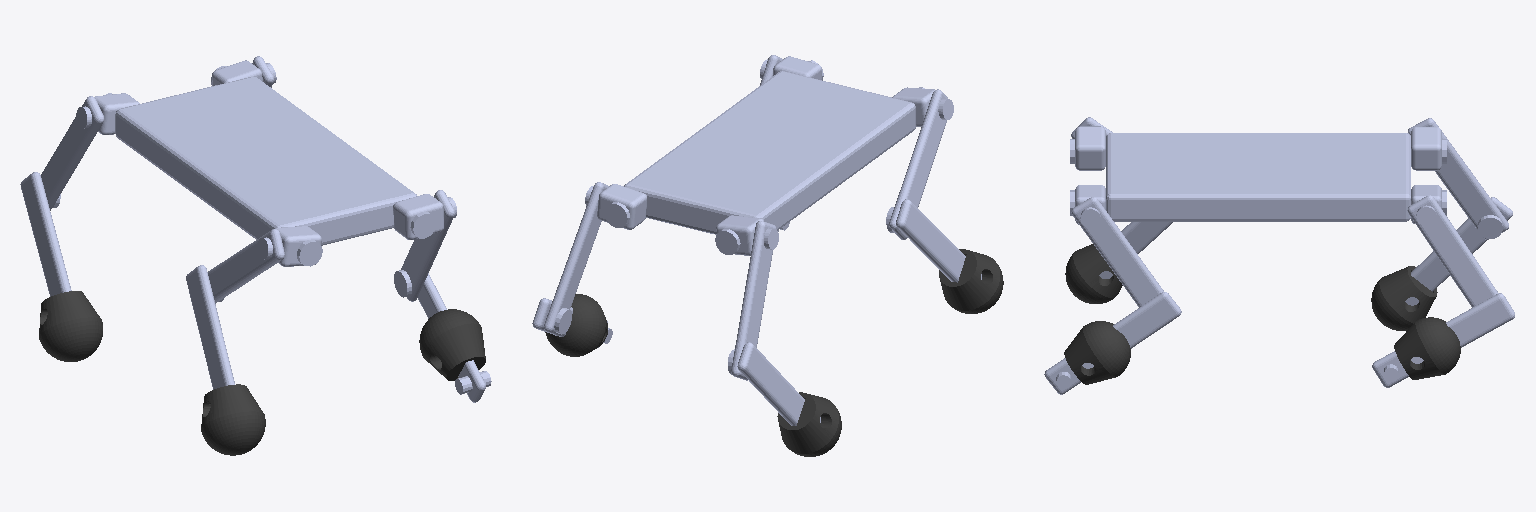
The robot description file, URDF, robot "StickASM":
<?xml version="1.0" encoding="utf-8"?>
<!-- This URDF was automatically created by SolidWorks to URDF Exporter! Originally created by [author] ([email redacted]) 
     Commit Version: 1.6.0-4-g7f85cfe  Build Version: 1.6.7995.38578
     For more information, please see http://wiki.ros.org/sw_urdf_exporter -->
<robot
  name="StickASM">
  <link
    name="Body">
    <inertial>
      <origin
        xyz="-0.00500000000000015 -0.0150000000000002 -0.00499999999999896"
        rpy="0 0 0" />
      <mass
        value="1.37088974358268" />
      <inertia
        ixx="0.0110007758484815"
        ixy="1.96455395481344E-21"
        ixz="-4.96308367531819E-20"
        iyy="0.0135005634933447"
        iyz="-6.41064974728595E-21"
        izz="0.00269988156811165" />
    </inertial>
    <visual>
      <origin
        xyz="0 0 0"
        rpy="0 0 0" />
      <geometry>
        <mesh
          filename="package://StickASM/meshes/Body.STL" />
      </geometry>
      <material
        name="">
        <color
          rgba="0.792156862745098 0.819607843137255 0.933333333333333 1" />
      </material>
    </visual>
    <collision>
      <origin
        xyz="0 0 0"
        rpy="0 0 0" />
      <geometry>
        <mesh
          filename="package://StickASM/meshes/Body.STL" />
      </geometry>
    </collision>
  </link>
  <link
    name="FLShoulder">
    <inertial>
      <origin
        xyz="6.93889390390723E-18 -0.00879740255477079 -0.0150000000000001"
        rpy="0 0 0" />
      <mass
        value="0.0320578905108868" />
      <inertia
        ixx="8.45939720006731E-06"
        ixy="2.17052192733914E-21"
        ixz="1.98428750238942E-21"
        iyy="4.44451246213101E-06"
        iyz="-5.01950869064248E-21"
        izz="8.78245355399603E-06" />
    </inertial>
    <visual>
      <origin
        xyz="0 0 0"
        rpy="0 0 0" />
      <geometry>
        <mesh
          filename="package://StickASM/meshes/FLShoulder.STL" />
      </geometry>
      <material
        name="">
        <color
          rgba="0.792156862745098 0.819607843137255 0.933333333333333 1" />
      </material>
    </visual>
    <collision>
      <origin
        xyz="0 0 0"
        rpy="0 0 0" />
      <geometry>
        <mesh
          filename="package://StickASM/meshes/FLShoulder.STL" />
      </geometry>
    </collision>
  </link>
  <joint
    name="FLShoulder"
    type="continuous">
    <origin
      xyz="-0.0650000000000001 -0.145000000000001 -0.0150000000000002"
      rpy="-1.5707963267949 -1.40621703436074 0" />
    <parent
      link="Body" />
    <child
      link="FLShoulder" />
    <axis
      xyz="0 0 -1" />
  </joint>
  <link
    name="FLUpper">
    <inertial>
      <origin
        xyz="0 0.0600000000000001 0.00473157331657191"
        rpy="0 0 0" />
      <mass
        value="0.0375556776546689" />
      <inertia
        ixx="6.20837416421208E-05"
        ixy="4.33045594283761E-20"
        ixz="3.09656309124208E-21"
        iyy="2.93059020603247E-06"
        iyz="-2.40078540042328E-20"
        izz="6.44442544233059E-05" />
    </inertial>
    <visual>
      <origin
        xyz="0 0 0"
        rpy="0 0 0" />
      <geometry>
        <mesh
          filename="package://StickASM/meshes/FLUpper.STL" />
      </geometry>
      <material
        name="">
        <color
          rgba="0.792156862745098 0.819607843137255 0.933333333333333 1" />
      </material>
    </visual>
    <collision>
      <origin
        xyz="0 0 0"
        rpy="0 0 0" />
      <geometry>
        <mesh
          filename="package://StickASM/meshes/FLUpper.STL" />
      </geometry>
    </collision>
  </link>
  <joint
    name="FLUpper"
    type="continuous">
    <origin
      xyz="0 -0.025268426683428 -0.0150000000000002"
      rpy="1.5707963267949 -0.693164372580323 0" />
    <parent
      link="FLShoulder" />
    <child
      link="FLUpper" />
    <axis
      xyz="0 0 1" />
  </joint>
  <link
    name="FLLower">
    <inertial>
      <origin
        xyz="0 -0.054587971991015 0.0134904645578"
        rpy="0 0 0" />
      <mass
        value="0.0488457762535073" />
      <inertia
        ixx="0.000101797858292996"
        ixy="-3.11284608115955E-20"
        ixz="3.18400110501725E-22"
        iyy="4.43601550465346E-06"
        iyz="3.30928229921803E-06"
        izz="0.000103093198261683" />
    </inertial>
    <visual>
      <origin
        xyz="0 0 0"
        rpy="0 0 0" />
      <geometry>
        <mesh
          filename="package://StickASM/meshes/FLLower.STL" />
      </geometry>
      <material
        name="">
        <color
          rgba="0.792156862745098 0.819607843137255 0.933333333333333 1" />
      </material>
    </visual>
    <collision>
      <origin
        xyz="0 0 0"
        rpy="0 0 0" />
      <geometry>
        <mesh
          filename="package://StickASM/meshes/FLLower.STL" />
      </geometry>
    </collision>
  </link>
  <joint
    name="FLLower"
    type="continuous">
    <origin
      xyz="0 0.12 0"
      rpy="0 0 -1.52817546237672" />
    <parent
      link="FLUpper" />
    <child
      link="FLLower" />
    <axis
      xyz="0 0 -1" />
  </joint>
  <link
    name="FLFeet">
    <inertial>
      <origin
        xyz="8.006E-08 -0.030962 5.1893E-08"
        rpy="0 0 0" />
      <mass
        value="0.11624" />
      <inertia
        ixx="4.5835E-05"
        ixy="-8.1167E-11"
        ixz="-2.2827E-11"
        iyy="4.3608E-05"
        iyz="-3.6086E-11"
        izz="4.4581E-05" />
    </inertial>
    <visual>
      <origin
        xyz="0 0 0"
        rpy="0 0 0" />
      <geometry>
        <mesh
          filename="package://StickASM/meshes/FLFeet.STL" />
      </geometry>
      <material
        name="butyl rubber">
        <color
          rgba="0.29804 0.29804 0.29804 1" />
      </material>
    </visual>
    <collision>
      <origin
        xyz="0 0 0"
        rpy="0 0 0" />
      <geometry>
        <mesh
          filename="package://StickASM/meshes/FLFeet.STL" />
      </geometry>
    </collision>
  </link>
  <joint
    name="FLFeet"
    type="fixed">
    <origin
      xyz="0 -0.1 0.0147315733165719"
      rpy="-0.517604271370109 1.57079630572147 -0.526651036330121" />
    <parent
      link="FLLower" />
    <child
      link="FLFeet" />
    <axis
      xyz="0 0 0" />
  </joint>
  <link
    name="FRShoulder">
    <inertial>
      <origin
        xyz="0 -0.00879740255477083 0.015"
        rpy="0 0 0" />
      <mass
        value="0.0320578905108868" />
      <inertia
        ixx="8.4593972000673E-06"
        ixy="-9.26442286059391E-22"
        ixz="3.60083340953907E-22"
        iyy="4.444512462131E-06"
        iyz="-1.25489025866428E-21"
        izz="8.78245355399602E-06" />
    </inertial>
    <visual>
      <origin
        xyz="0 0 0"
        rpy="0 0 0" />
      <geometry>
        <mesh
          filename="package://StickASM/meshes/FRShoulder.STL" />
      </geometry>
      <material
        name="">
        <color
          rgba="0.792156862745098 0.819607843137255 0.933333333333333 1" />
      </material>
    </visual>
    <collision>
      <origin
        xyz="0 0 0"
        rpy="0 0 0" />
      <geometry>
        <mesh
          filename="package://StickASM/meshes/FRShoulder.STL" />
      </geometry>
    </collision>
  </link>
  <joint
    name="FRShoulder"
    type="continuous">
    <origin
      xyz="0.0550000000000002 -0.145 -0.015"
      rpy="-1.5707963267949 -1.52735315429356 3.14159265358979" />
    <parent
      link="Body" />
    <child
      link="FRShoulder" />
    <axis
      xyz="0 0 1" />
  </joint>
  <link
    name="FRUpper">
    <inertial>
      <origin
        xyz="2.77555756156289E-17 0.06 0.0111397894009754"
        rpy="0 0 0" />
      <mass
        value="0.037555677654669" />
      <inertia
        ixx="6.20837416421209E-05"
        ixy="5.71747239396653E-21"
        ixz="3.60961517954552E-23"
        iyy="2.93059020603247E-06"
        iyz="-2.58768387361517E-20"
        izz="6.4444254423306E-05" />
    </inertial>
    <visual>
      <origin
        xyz="0 0 0"
        rpy="0 0 0" />
      <geometry>
        <mesh
          filename="package://StickASM/meshes/FRUpper.STL" />
      </geometry>
      <material
        name="">
        <color
          rgba="0.792156862745098 0.819607843137255 0.933333333333333 1" />
      </material>
    </visual>
    <collision>
      <origin
        xyz="0 0 0"
        rpy="0 0 0" />
      <geometry>
        <mesh
          filename="package://StickASM/meshes/FRUpper.STL" />
      </geometry>
    </collision>
  </link>
  <joint
    name="FRUpper"
    type="continuous">
    <origin
      xyz="0 -0.0188602105990246 0.015"
      rpy="-1.5707963267949 -0.983801789980512 -3.14159265358979" />
    <parent
      link="FRShoulder" />
    <child
      link="FRUpper" />
    <axis
      xyz="0 0 1" />
  </joint>
  <link
    name="FRLower">
    <inertial>
      <origin
        xyz="4.16333634234434E-17 -0.054587971991015 0.023652358855798"
        rpy="0 0 0" />
      <mass
        value="0.0488457762535073" />
      <inertia
        ixx="0.000101797858292995"
        ixy="1.10114283143059E-20"
        ixz="-3.36550231622117E-22"
        iyy="4.43601550465344E-06"
        iyz="3.30928229921801E-06"
        izz="0.000103093198261683" />
    </inertial>
    <visual>
      <origin
        xyz="0 0 0"
        rpy="0 0 0" />
      <geometry>
        <mesh
          filename="package://StickASM/meshes/FRLower.STL" />
      </geometry>
      <material
        name="">
        <color
          rgba="0.792156862745098 0.819607843137255 0.933333333333333 1" />
      </material>
    </visual>
    <collision>
      <origin
        xyz="0 0 0"
        rpy="0 0 0" />
      <geometry>
        <mesh
          filename="package://StickASM/meshes/FRLower.STL" />
      </geometry>
    </collision>
  </link>
  <joint
    name="FRLower"
    type="continuous">
    <origin
      xyz="0 0.12 -0.00375367821359442"
      rpy="0 0 1.61544501831559" />
    <parent
      link="FRUpper" />
    <child
      link="FRLower" />
    <axis
      xyz="0 0 -1" />
  </joint>
  <link
    name="FRFeet">
    <inertial>
      <origin
        xyz="7.8431E-08 -0.030962 5.1235E-08"
        rpy="0 0 0" />
      <mass
        value="0.11624" />
      <inertia
        ixx="4.5835E-05"
        ixy="-7.7158E-11"
        ixz="-1.8287E-11"
        iyy="4.3608E-05"
        iyz="-3.5479E-11"
        izz="4.4581E-05" />
    </inertial>
    <visual>
      <origin
        xyz="0 0 0"
        rpy="0 0 0" />
      <geometry>
        <mesh
          filename="package://StickASM/meshes/FRFeet.STL" />
      </geometry>
      <material
        name="butyl rubber">
        <color
          rgba="0.29804 0.29804 0.29804 1" />
      </material>
    </visual>
    <collision>
      <origin
        xyz="0 0 0"
        rpy="0 0 0" />
      <geometry>
        <mesh
          filename="package://StickASM/meshes/FRFeet.STL" />
      </geometry>
    </collision>
  </link>
  <joint
    name="FRFeet"
    type="fixed">
    <origin
      xyz="0 -0.1 0.0248934676145698"
      rpy="3.14159263868863 -1.5707963267949 0" />
    <parent
      link="FRLower" />
    <child
      link="FRFeet" />
    <axis
      xyz="0 0 0" />
  </joint>
  <link
    name="BLShoulder">
    <inertial>
      <origin
        xyz="-3.46944695195361E-18 -0.00879740255477084 0.015"
        rpy="0 0 0" />
      <mass
        value="0.0320578905108868" />
      <inertia
        ixx="8.45939720006731E-06"
        ixy="1.11173074327127E-21"
        ixz="-1.72214447008598E-22"
        iyy="4.444512462131E-06"
        iyz="-1.52973545801633E-21"
        izz="8.78245355399602E-06" />
    </inertial>
    <visual>
      <origin
        xyz="0 0 0"
        rpy="0 0 0" />
      <geometry>
        <mesh
          filename="package://StickASM/meshes/BLShoulder.STL" />
      </geometry>
      <material
        name="">
        <color
          rgba="0.792156862745098 0.819607843137255 0.933333333333333 1" />
      </material>
    </visual>
    <collision>
      <origin
        xyz="0 0 0"
        rpy="0 0 0" />
      <geometry>
        <mesh
          filename="package://StickASM/meshes/BLShoulder.STL" />
      </geometry>
    </collision>
  </link>
  <joint
    name="BLShoulder"
    type="continuous">
    <origin
      xyz="-0.0650000000000001 0.154999999999999 -0.0150000000000002"
      rpy="-1.5707963267949 -1.44102861105251 0" />
    <parent
      link="Body" />
    <child
      link="BLShoulder" />
    <axis
      xyz="0 0 1" />
  </joint>
  <link
    name="BLUpper">
    <inertial>
      <origin
        xyz="0 0.06 0.00483254652687731"
        rpy="0 0 0" />
      <mass
        value="0.037555677654669" />
      <inertia
        ixx="6.20837416421209E-05"
        ixy="-1.0482032722272E-20"
        ixz="9.56223180092128E-22"
        iyy="2.93059020603245E-06"
        iyz="-1.36361094632562E-20"
        izz="6.44442544233061E-05" />
    </inertial>
    <visual>
      <origin
        xyz="0 0 0"
        rpy="0 0 0" />
      <geometry>
        <mesh
          filename="package://StickASM/meshes/BLUpper.STL" />
      </geometry>
      <material
        name="">
        <color
          rgba="0.792156862745098 0.819607843137255 0.933333333333333 1" />
      </material>
    </visual>
    <collision>
      <origin
        xyz="0 0 0"
        rpy="0 0 0" />
      <geometry>
        <mesh
          filename="package://StickASM/meshes/BLUpper.STL" />
      </geometry>
    </collision>
  </link>
  <joint
    name="BLUpper"
    type="continuous">
    <origin
      xyz="0 -0.0251674534731227 0.015"
      rpy="1.5707963267949 -1.02102707486535 0" />
    <parent
      link="BLShoulder" />
    <child
      link="BLUpper" />
    <axis
      xyz="0 0 1" />
  </joint>
  <link
    name="BLLower">
    <inertial>
      <origin
        xyz="0 -0.054588 0.013591"
        rpy="0 0 0" />
      <mass
        value="0.048846" />
      <inertia
        ixx="0.0001018"
        ixy="3.6634E-20"
        ixz="-3.6919E-22"
        iyy="4.436E-06"
        iyz="3.3093E-06"
        izz="0.00010309" />
    </inertial>
    <visual>
      <origin
        xyz="0 0 0"
        rpy="0 0 0" />
      <geometry>
        <mesh
          filename="package://StickASM/meshes/BLLower.STL" />
      </geometry>
      <material
        name="">
        <color
          rgba="0.79216 0.81961 0.93333 1" />
      </material>
    </visual>
    <collision>
      <origin
        xyz="0 0 0"
        rpy="0 0 0" />
      <geometry>
        <mesh
          filename="package://StickASM/meshes/BLLower.STL" />
      </geometry>
    </collision>
  </link>
  <joint
    name="BLLower"
    type="continuous">
    <origin
      xyz="0 0.12 0"
      rpy="0 0 -1.86181998978293" />
    <parent
      link="BLUpper" />
    <child
      link="BLLower" />
    <axis
      xyz="0 0 -1" />
  </joint>
  <link
    name="BLFeet">
    <inertial>
      <origin
        xyz="7.959E-08 -0.030962 5.1894E-08"
        rpy="0 0 0" />
      <mass
        value="0.11624" />
      <inertia
        ixx="4.5835E-05"
        ixy="-8.041E-11"
        ixz="-2.2214E-11"
        iyy="4.3608E-05"
        iyz="-3.6113E-11"
        izz="4.4581E-05" />
    </inertial>
    <visual>
      <origin
        xyz="0 0 0"
        rpy="0 0 0" />
      <geometry>
        <mesh
          filename="package://StickASM/meshes/BLFeet.STL" />
      </geometry>
      <material
        name="butyl rubber">
        <color
          rgba="0.29804 0.29804 0.29804 1" />
      </material>
    </visual>
    <collision>
      <origin
        xyz="0 0 0"
        rpy="0 0 0" />
      <geometry>
        <mesh
          filename="package://StickASM/meshes/BLFeet.STL" />
      </geometry>
    </collision>
  </link>
  <joint
    name="BLFeet"
    type="fixed">
    <origin
      xyz="0 -0.1 0.0148325465268772"
      rpy="-1.33546498470485 1.57079631189374 -1.32543067513811" />
    <parent
      link="BLLower" />
    <child
      link="BLFeet" />
    <axis
      xyz="0 0 0" />
  </joint>
  <link
    name="BRShoulder">
    <inertial>
      <origin
        xyz="-3.46944695195361E-18 -0.00879740255477079 -0.015"
        rpy="0 0 0" />
      <mass
        value="0.0320578905108868" />
      <inertia
        ixx="8.45939720006731E-06"
        ixy="-6.08804930839028E-22"
        ixz="6.9595475416283E-22"
        iyy="4.44451246213101E-06"
        iyz="-3.20651530399136E-21"
        izz="8.78245355399602E-06" />
    </inertial>
    <visual>
      <origin
        xyz="0 0 0"
        rpy="0 0 0" />
      <geometry>
        <mesh
          filename="package://StickASM/meshes/BRShoulder.STL" />
      </geometry>
      <material
        name="">
        <color
          rgba="0.792156862745098 0.819607843137255 0.933333333333333 1" />
      </material>
    </visual>
    <collision>
      <origin
        xyz="0 0 0"
        rpy="0 0 0" />
      <geometry>
        <mesh
          filename="package://StickASM/meshes/BRShoulder.STL" />
      </geometry>
    </collision>
  </link>
  <joint
    name="BRShoulder"
    type="continuous">
    <origin
      xyz="0.055 0.155 -0.015"
      rpy="-1.5708 -1.4773 3.1416" />
    <parent
      link="Body" />
    <child
      link="BRShoulder" />
    <axis
      xyz="0 0 -1" />
  </joint>
  <link
    name="BRUpper">
    <inertial>
      <origin
        xyz="-2.77555756156289E-17 0.06 0.0182663104096052"
        rpy="0 0 0" />
      <mass
        value="0.037555677654669" />
      <inertia
        ixx="6.20837416421209E-05"
        ixy="5.65394492292245E-20"
        ixz="-6.03139630358595E-22"
        iyy="2.93059020603247E-06"
        iyz="2.33568607617249E-20"
        izz="6.44442544233061E-05" />
    </inertial>
    <visual>
      <origin
        xyz="0 0 0"
        rpy="0 0 0" />
      <geometry>
        <mesh
          filename="package://StickASM/meshes/BRUpper.STL" />
      </geometry>
      <material
        name="">
        <color
          rgba="0.792156862745098 0.819607843137255 0.933333333333333 1" />
      </material>
    </visual>
    <collision>
      <origin
        xyz="0 0 0"
        rpy="0 0 0" />
      <geometry>
        <mesh
          filename="package://StickASM/meshes/BRUpper.STL" />
      </geometry>
    </collision>
  </link>
  <joint
    name="BRUpper"
    type="continuous">
    <origin
      xyz="0 -0.0117336895903948 -0.0150000000000001"
      rpy="-1.5707963267949 -1.00426253041017 -3.14159265358979" />
    <parent
      link="BRShoulder" />
    <child
      link="BRUpper" />
    <axis
      xyz="0 0 1" />
  </joint>
  <link
    name="BRLower">
    <inertial>
      <origin
        xyz="-5.55111512312578E-17 -0.054587971991015 0.0282323263050382"
        rpy="0 0 0" />
      <mass
        value="0.0488457762535073" />
      <inertia
        ixx="0.000101797858292996"
        ixy="1.46113183401367E-20"
        ixz="1.34541507994117E-21"
        iyy="4.43601550465344E-06"
        iyz="3.30928229921799E-06"
        izz="0.000103093198261683" />
    </inertial>
    <visual>
      <origin
        xyz="0 0 0"
        rpy="0 0 0" />
      <geometry>
        <mesh
          filename="package://StickASM/meshes/BRLower.STL" />
      </geometry>
      <material
        name="">
        <color
          rgba="0.792156862745098 0.819607843137255 0.933333333333333 1" />
      </material>
    </visual>
    <collision>
      <origin
        xyz="0 0 0"
        rpy="0 0 0" />
      <geometry>
        <mesh
          filename="package://StickASM/meshes/BRLower.STL" />
      </geometry>
    </collision>
  </link>
  <joint
    name="BRLower"
    type="continuous">
    <origin
      xyz="0 0.12 -0.0012071"
      rpy="0 0 1.5357" />
    <parent
      link="BRUpper" />
    <child
      link="BRLower" />
    <axis
      xyz="0 0 -1" />
  </joint>
  <link
    name="BRFeet">
    <inertial>
      <origin
        xyz="7.9013E-08 -0.030962 5.0741E-08"
        rpy="0 0 0" />
      <mass
        value="0.11624" />
      <inertia
        ixx="4.5835E-05"
        ixy="-7.6549E-11"
        ixz="-1.6818E-11"
        iyy="4.3608E-05"
        iyz="-3.4776E-11"
        izz="4.4581E-05" />
    </inertial>
    <visual>
      <origin
        xyz="0 0 0"
        rpy="0 0 0" />
      <geometry>
        <mesh
          filename="package://StickASM/meshes/BRFeet.STL" />
      </geometry>
      <material
        name="butyl rubber">
        <color
          rgba="0.29804 0.29804 0.29804 1" />
      </material>
    </visual>
    <collision>
      <origin
        xyz="0 0 0"
        rpy="0 0 0" />
      <geometry>
        <mesh
          filename="package://StickASM/meshes/BRFeet.STL" />
      </geometry>
    </collision>
  </link>
  <joint
    name="BRFeet"
    type="fixed">
    <origin
      xyz="0 -0.1 0.029473"
      rpy="3.1416 -1.5708 0" />
    <parent
      link="BRLower" />
    <child
      link="BRFeet" />
    <axis
      xyz="0 0 0" />
  </joint>
</robot>

--- What the picture shows (computed from the rendered views, not written in the file) ---
The picture shows the robot from 3 angles, left to right: view 1: azimuth 30°, elevation 25°; view 2: azimuth 150°, elevation 25°; view 3: azimuth 270°, elevation 25°; orthographic projection.
Robot: StickASM — 17 links, 16 joints (12 continuous, 4 fixed); root link Body; default pose: all joints at 0.
Visible links, largest first — view 1: Body, FLFeet, BLFeet, FRFeet, BLLower, FLLower, BLUpper, FLUpper, FRLower, FRUpper, FRShoulder, FLShoulder (+2 smaller); view 2: Body, FLFeet, BLFeet, BLUpper, FLUpper, FLLower, BRUpper, BLLower, BRFeet, BRShoulder, BLShoulder, FLShoulder (+2 smaller); view 3: Body, BRUpper, FRUpper, FRFeet, BRFeet, BLFeet, BRLower, FRLower, BLUpper, FLFeet, BLLower, FLShoulder (+4 smaller).
Link boxes in pixels (x1=…): Body: x1=106, y1=66, x2=436, y2=266; FLFeet: x1=201, y1=384, x2=265, y2=455; BLFeet: x1=39, y1=291, x2=102, y2=361; FRFeet: x1=419, y1=309, x2=485, y2=380; BLLower: x1=20, y1=172, x2=71, y2=296; FLLower: x1=186, y1=265, x2=234, y2=389; BLUpper: x1=41, y1=96, x2=104, y2=210; FLUpper: x1=208, y1=229, x2=284, y2=303; FRLower: x1=394, y1=270, x2=491, y2=402; FRUpper: x1=401, y1=190, x2=454, y2=301; FRShoulder: x1=393, y1=194, x2=456, y2=239; FLShoulder: x1=257, y1=226, x2=321, y2=266; Body: x1=605, y1=60, x2=924, y2=254; FLFeet: x1=939, y1=249, x2=1003, y2=313; BLFeet: x1=777, y1=392, x2=841, y2=456; BLUpper: x1=731, y1=221, x2=776, y2=380; FLUpper: x1=889, y1=89, x2=947, y2=239; FLLower: x1=886, y1=199, x2=981, y2=282; BRUpper: x1=544, y1=182, x2=608, y2=335; BLLower: x1=728, y1=342, x2=820, y2=425; BRFeet: x1=545, y1=294, x2=607, y2=356; BRShoulder: x1=585, y1=184, x2=646, y2=229; BLShoulder: x1=716, y1=215, x2=778, y2=255; FLShoulder: x1=892, y1=87, x2=953, y2=126; Body: x1=1070, y1=133, x2=1446, y2=221; BRUpper: x1=1407, y1=195, x2=1498, y2=307; FRUpper: x1=1071, y1=197, x2=1163, y2=307; FRFeet: x1=1064, y1=321, x2=1130, y2=384; BRFeet: x1=1394, y1=317, x2=1460, y2=379; BLFeet: x1=1371, y1=266, x2=1437, y2=330; BRLower: x1=1372, y1=293, x2=1514, y2=387; FRLower: x1=1044, y1=292, x2=1181, y2=394; BLUpper: x1=1408, y1=118, x2=1508, y2=239; FLFeet: x1=1065, y1=244, x2=1122, y2=303; BLLower: x1=1405, y1=197, x2=1512, y2=305; FLShoulder: x1=1075, y1=126, x2=1105, y2=170.
Bounding box of the posed robot: 0.3004 × 0.4627 × 0.2459 m (x, y, z).
17 mesh visuals loaded from 17 distinct referenced files (17 binary STL).